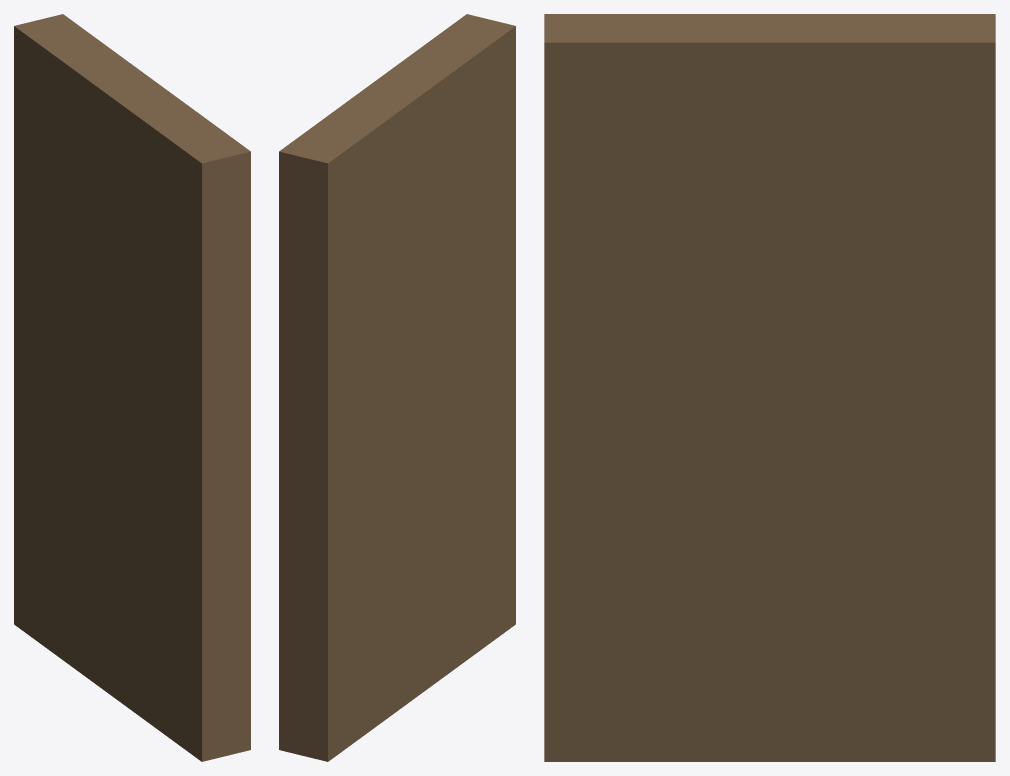
The model's file is left_delivery_door.fbx.
3 views of the same model, side by side, from view 1: azimuth 30°, elevation 25°; view 2: azimuth 150°, elevation 25°; view 3: azimuth 270°, elevation 25° (orthographic). The views are drawn at different scales.
Visible parts, largest first — view 1: polySurface140; view 2: polySurface140; view 3: polySurface140.
Boxes of the visible parts, x1,y1,x2,y2 form: polySurface140: (14, 14, 250, 761); polySurface140: (279, 14, 515, 761); polySurface140: (544, 14, 995, 761).
Bounding box in the file's own units: 0.0557 × 0.6498 × 0.3697.
